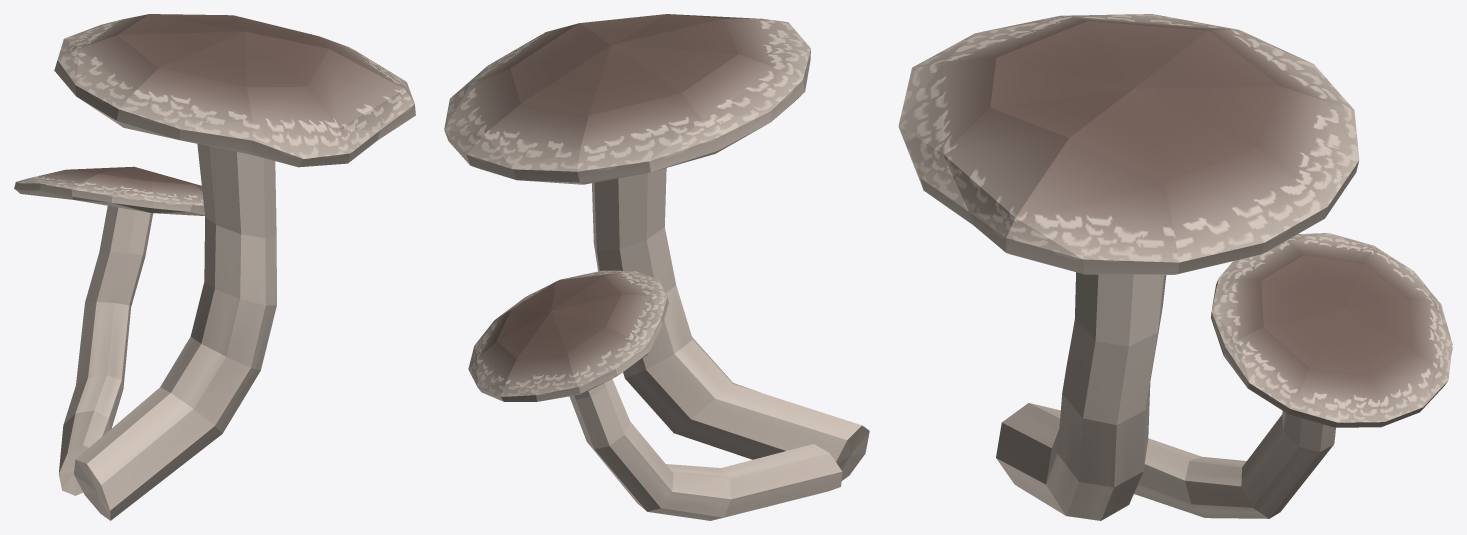
The model's file is shiitakeGroup2.fbx.
3 views of the same model, side by side, from view 1: azimuth 30°, elevation 25°; view 2: azimuth 150°, elevation 25°; view 3: azimuth 270°, elevation 25° (orthographic). The views are drawn at different scales.
Parts seen in each view (by area): view 1: shiitakeGroup2; view 2: shiitakeGroup2; view 3: shiitakeGroup2.
Part boxes in pixels (bbox=[...]): shiitakeGroup2: bbox=[14, 14, 415, 520]; shiitakeGroup2: bbox=[444, 14, 869, 520]; shiitakeGroup2: bbox=[898, 14, 1452, 520].
Size of the model in its own units: 18.92 by 21.62 by 21.11.
